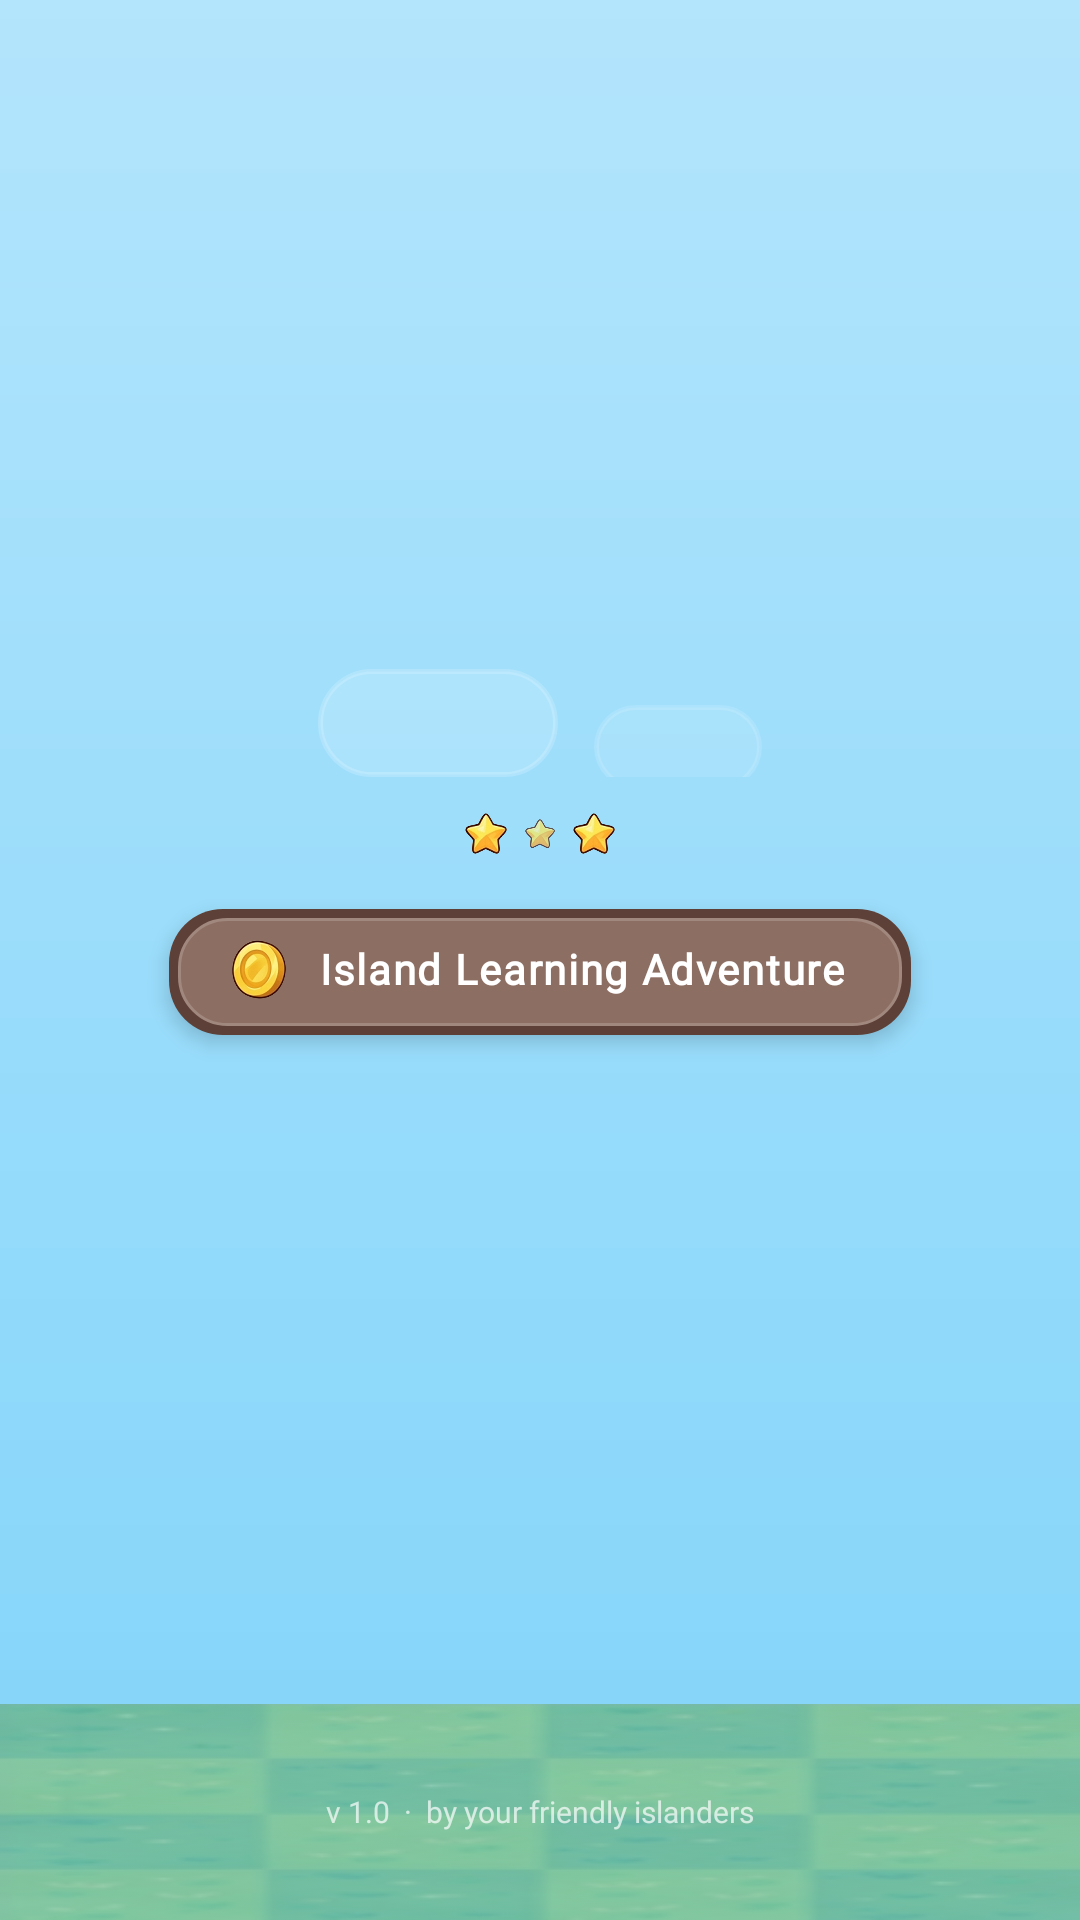

Screen size 1080px x 1920px. Icon name, then its center in pixels as (x=x, y=y):
grade star: (x=486, y=833), (x=594, y=833), (x=540, y=833)
